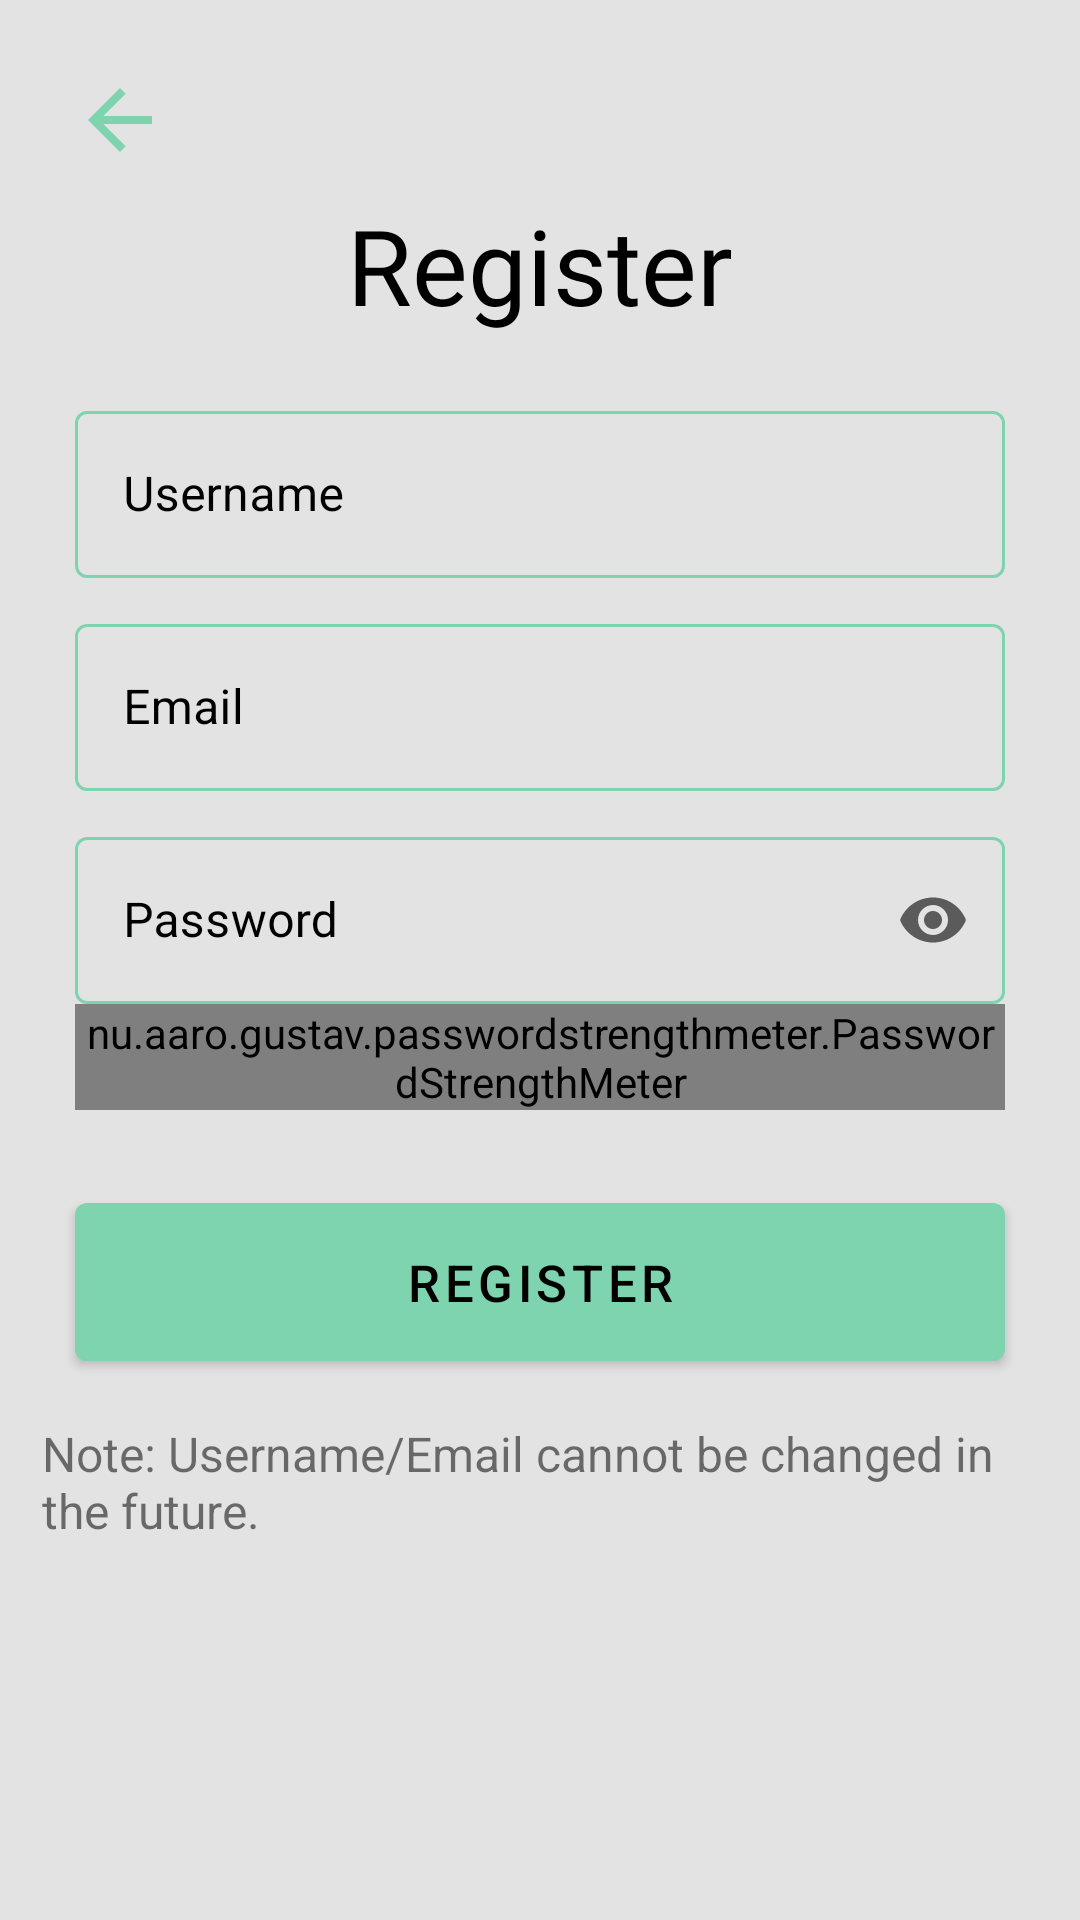

Icons on this 1080×1920 Android screen, each with the point to tap as point (x, y):
arrow back: point (120, 120)
